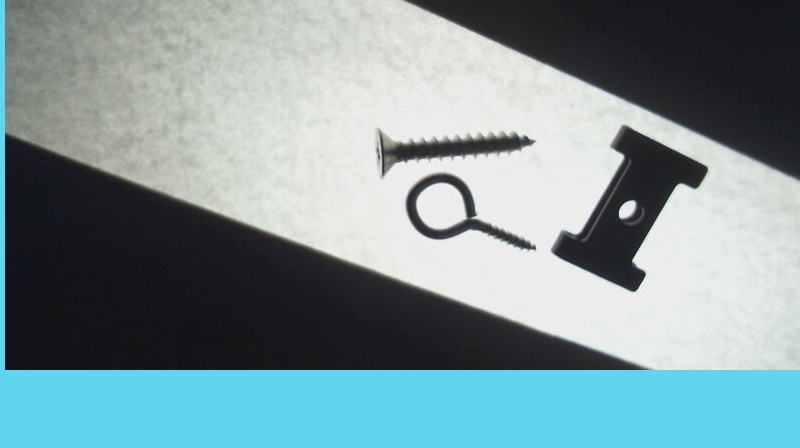O001: (403, 169, 538, 255)
O002: (549, 123, 709, 293)
S001: (366, 120, 537, 178)
